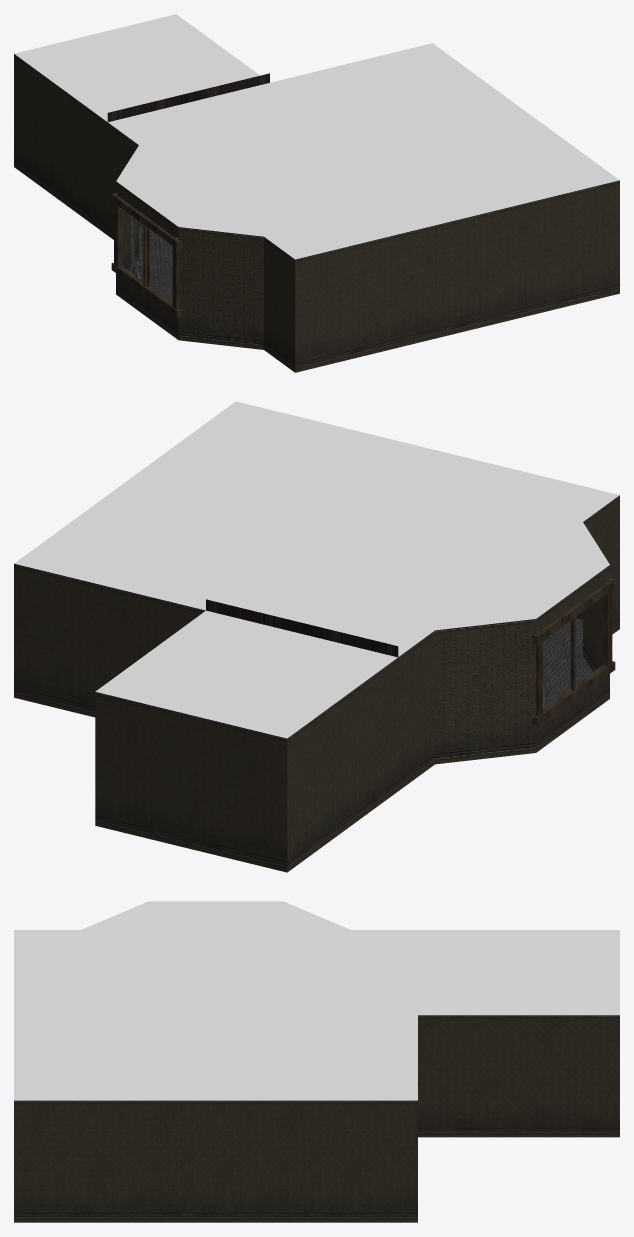
File: Apt6.glb
3 views of the same model, one above another, from view 1: azimuth 30°, elevation 25°; view 2: azimuth 150°, elevation 25°; view 3: azimuth 270°, elevation 25° (orthographic). The views are drawn at different scales.
Parts seen in each view (by area): view 1: Ceiling, aptbase-col, Cube; view 2: Ceiling, aptbase-col, Cube; view 3: Ceiling, aptbase-col.
Boxes of the visible parts, x1,y1,x2,y2 form: Ceiling: (14, 14, 619, 259); aptbase-col: (14, 54, 619, 372); Cube: (111, 194, 182, 317); Ceiling: (14, 401, 619, 738); aptbase-col: (14, 495, 619, 872); Cube: (531, 579, 615, 725); Ceiling: (14, 901, 619, 1100); aptbase-col: (14, 1015, 619, 1222).
Size of the model in its own units: 7.06 by 2.2 by 9.
6 materials, 6 textured.
